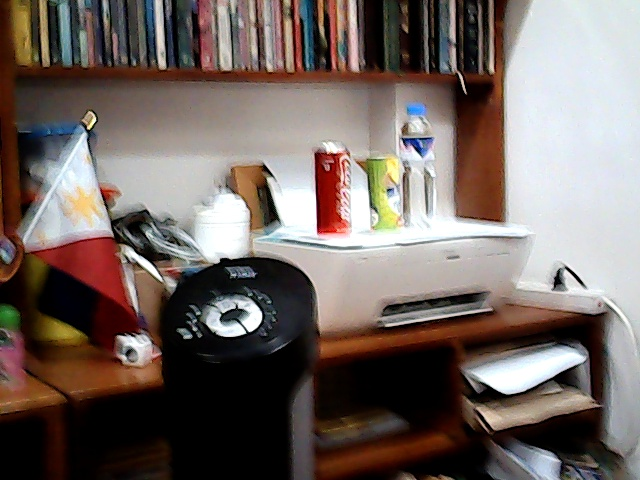Cola: (312, 146, 350, 235)
Pine Juice: (363, 149, 399, 235)
Summit Water: (401, 103, 440, 226)
